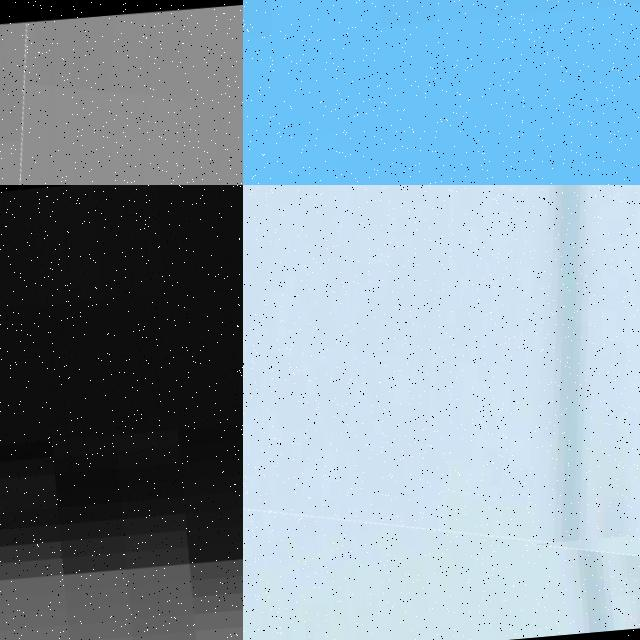drone: (243, 185, 640, 582), (0, 0, 243, 185)
